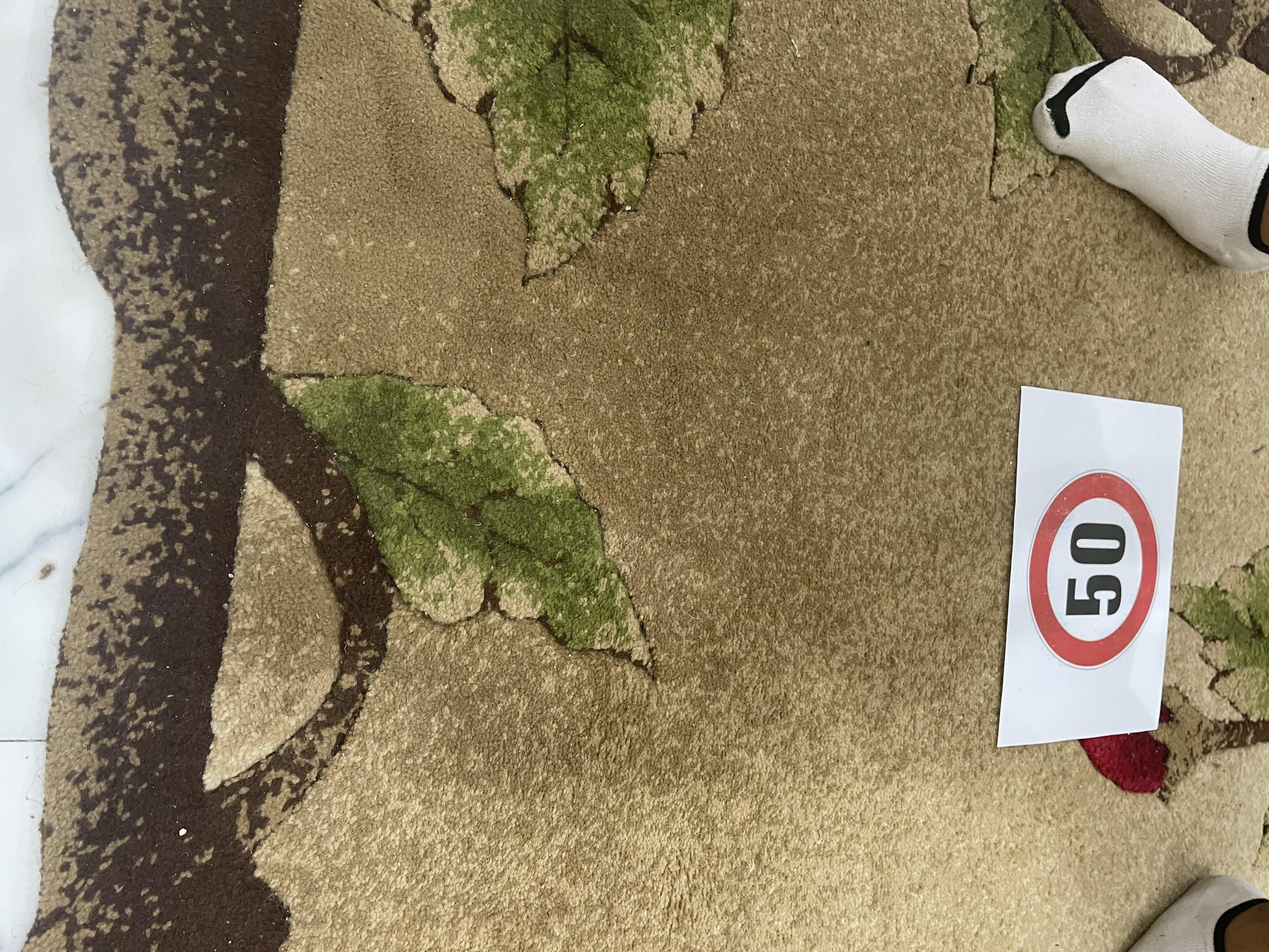50-Speed: (626, 80, 895, 182)
